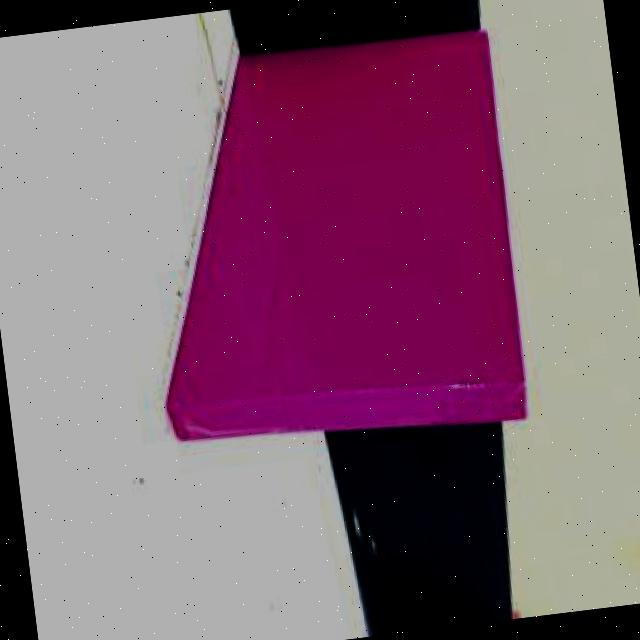xparking: (158, 28, 522, 450)
